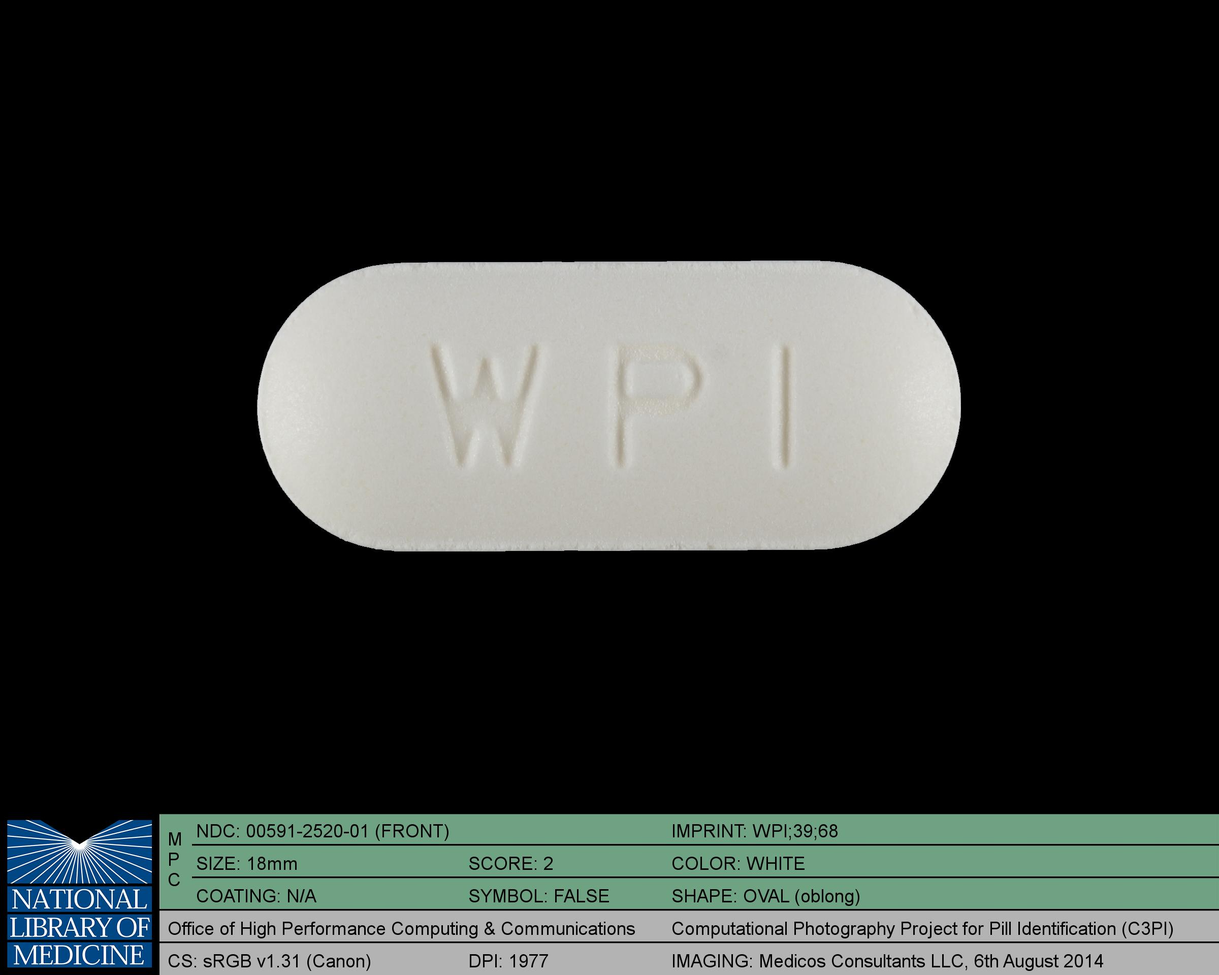Pill: (245, 247, 974, 565)
